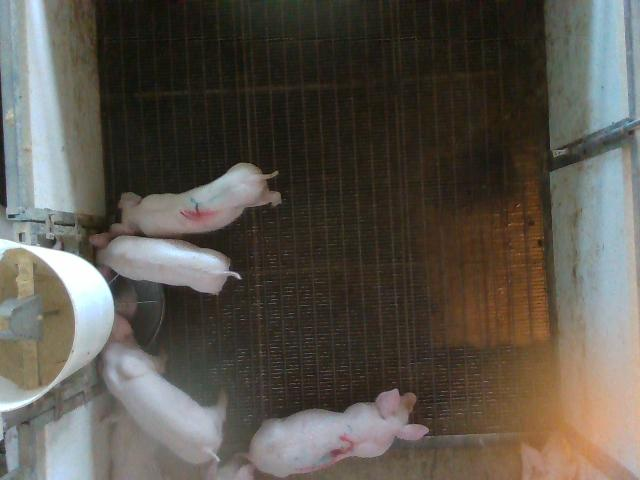pig-3: (249, 389, 429, 477)
pig-4: (110, 162, 281, 238)
